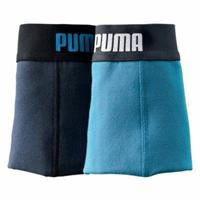mutande: (82, 22, 191, 176), (7, 23, 94, 177)
